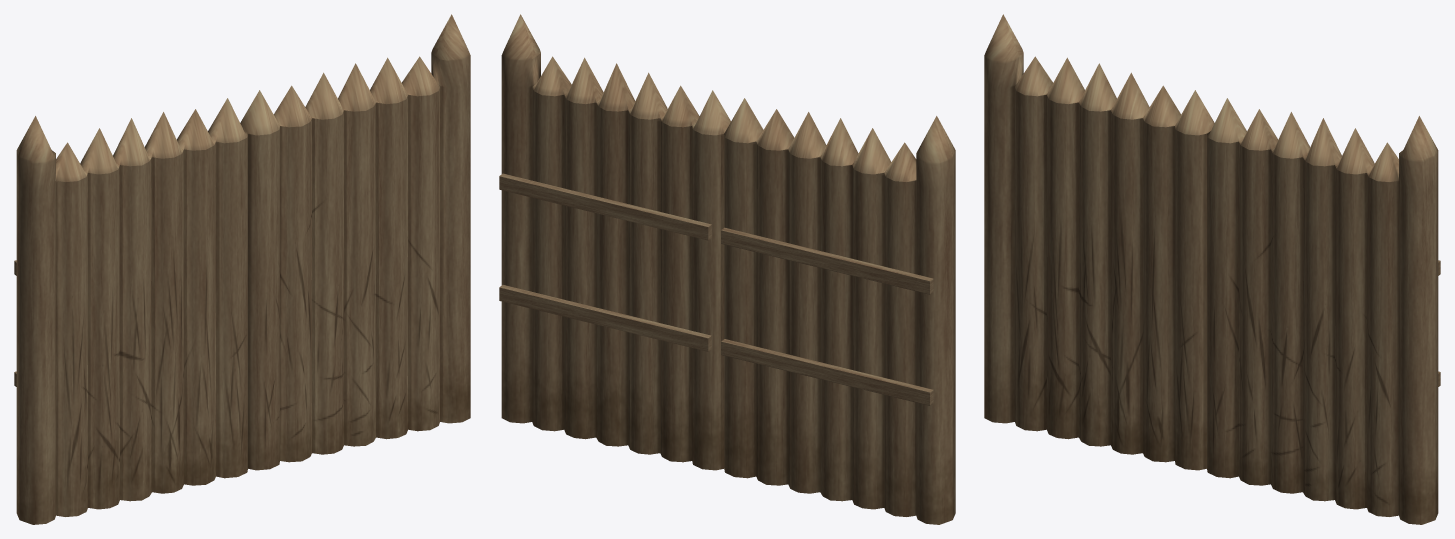
File: BgMD_Akimoto_Fence_2.fbx
3 views of the same model, side by side, from view 1: azimuth 30°, elevation 25°; view 2: azimuth 150°, elevation 25°; view 3: azimuth 330°, elevation 25° (orthographic).
Visible parts, largest first — view 1: BgMD_Akimoto_Fence_2_01, BgMD_Akimoto_Fence_2_02; view 2: BgMD_Akimoto_Fence_2_01, BgMD_Akimoto_Fence_2_02; view 3: BgMD_Akimoto_Fence_2_02, BgMD_Akimoto_Fence_2_01.
Boxes of the visible parts, <box> form: BgMD_Akimoto_Fence_2_01: <box>14,98,247,524</box>; BgMD_Akimoto_Fence_2_02: <box>240,14,470,470</box>; BgMD_Akimoto_Fence_2_01: <box>721,98,955,524</box>; BgMD_Akimoto_Fence_2_02: <box>499,14,730,470</box>; BgMD_Akimoto_Fence_2_02: <box>1207,98,1440,524</box>; BgMD_Akimoto_Fence_2_01: <box>984,14,1214,470</box>.
Bounding box in the file's own units: 700 × 598 × 66.07.
